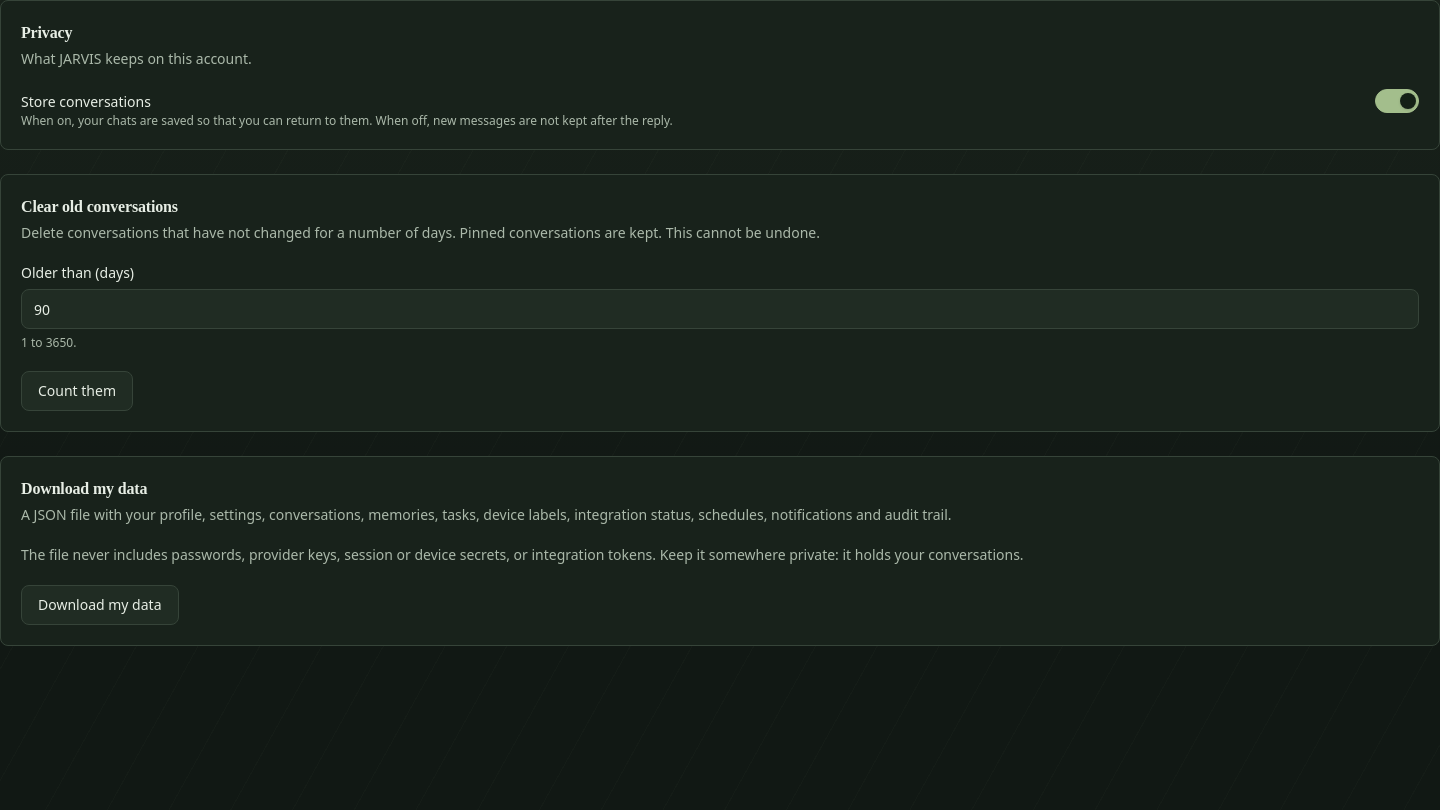
Test case: download my data › fetches the account export and saves it under the server's file name
Click the button "Download my data": (100, 605) 21,585 -> 178,625
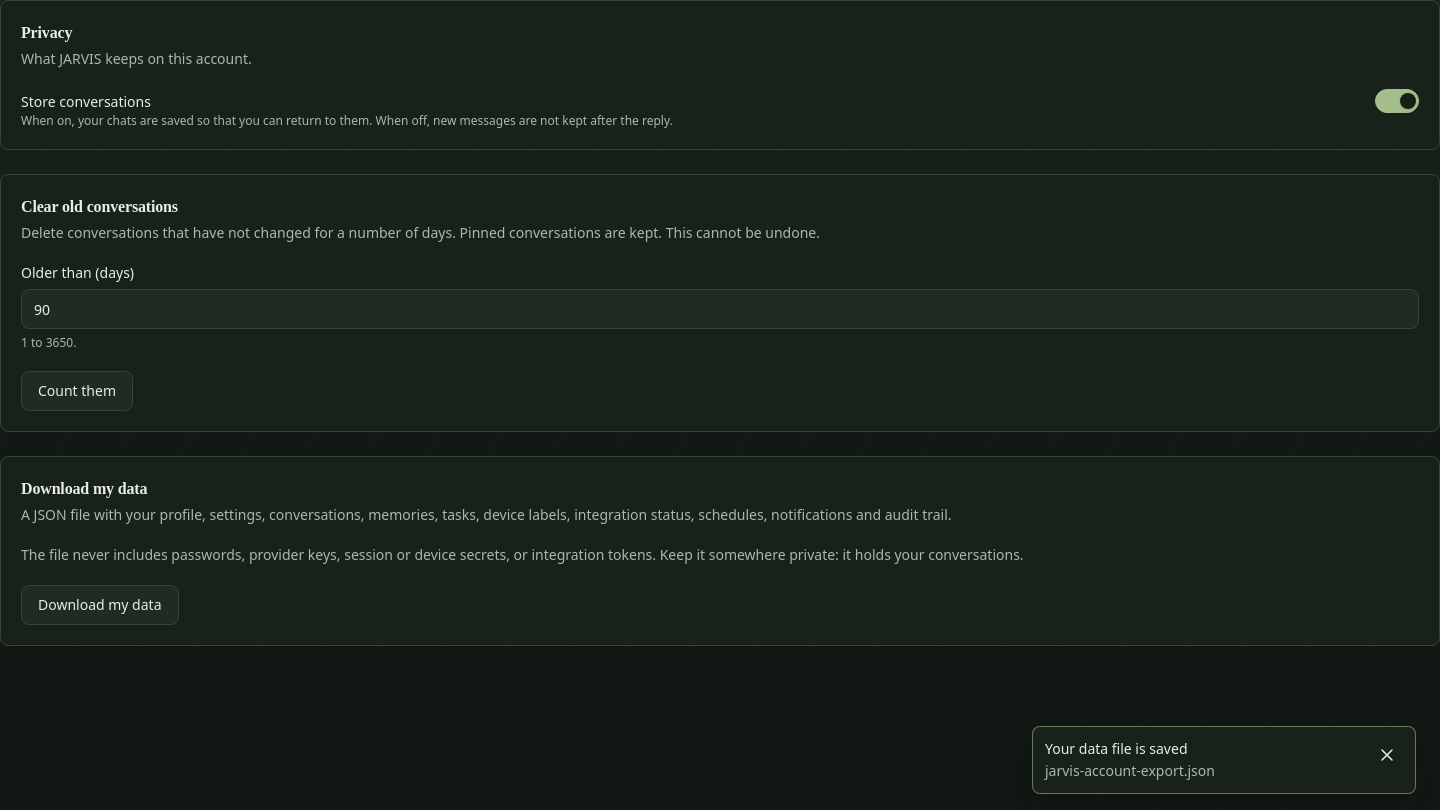
Now the text "jarvis-account-export.json" is shown, box 1045,761 -> 1215,780
